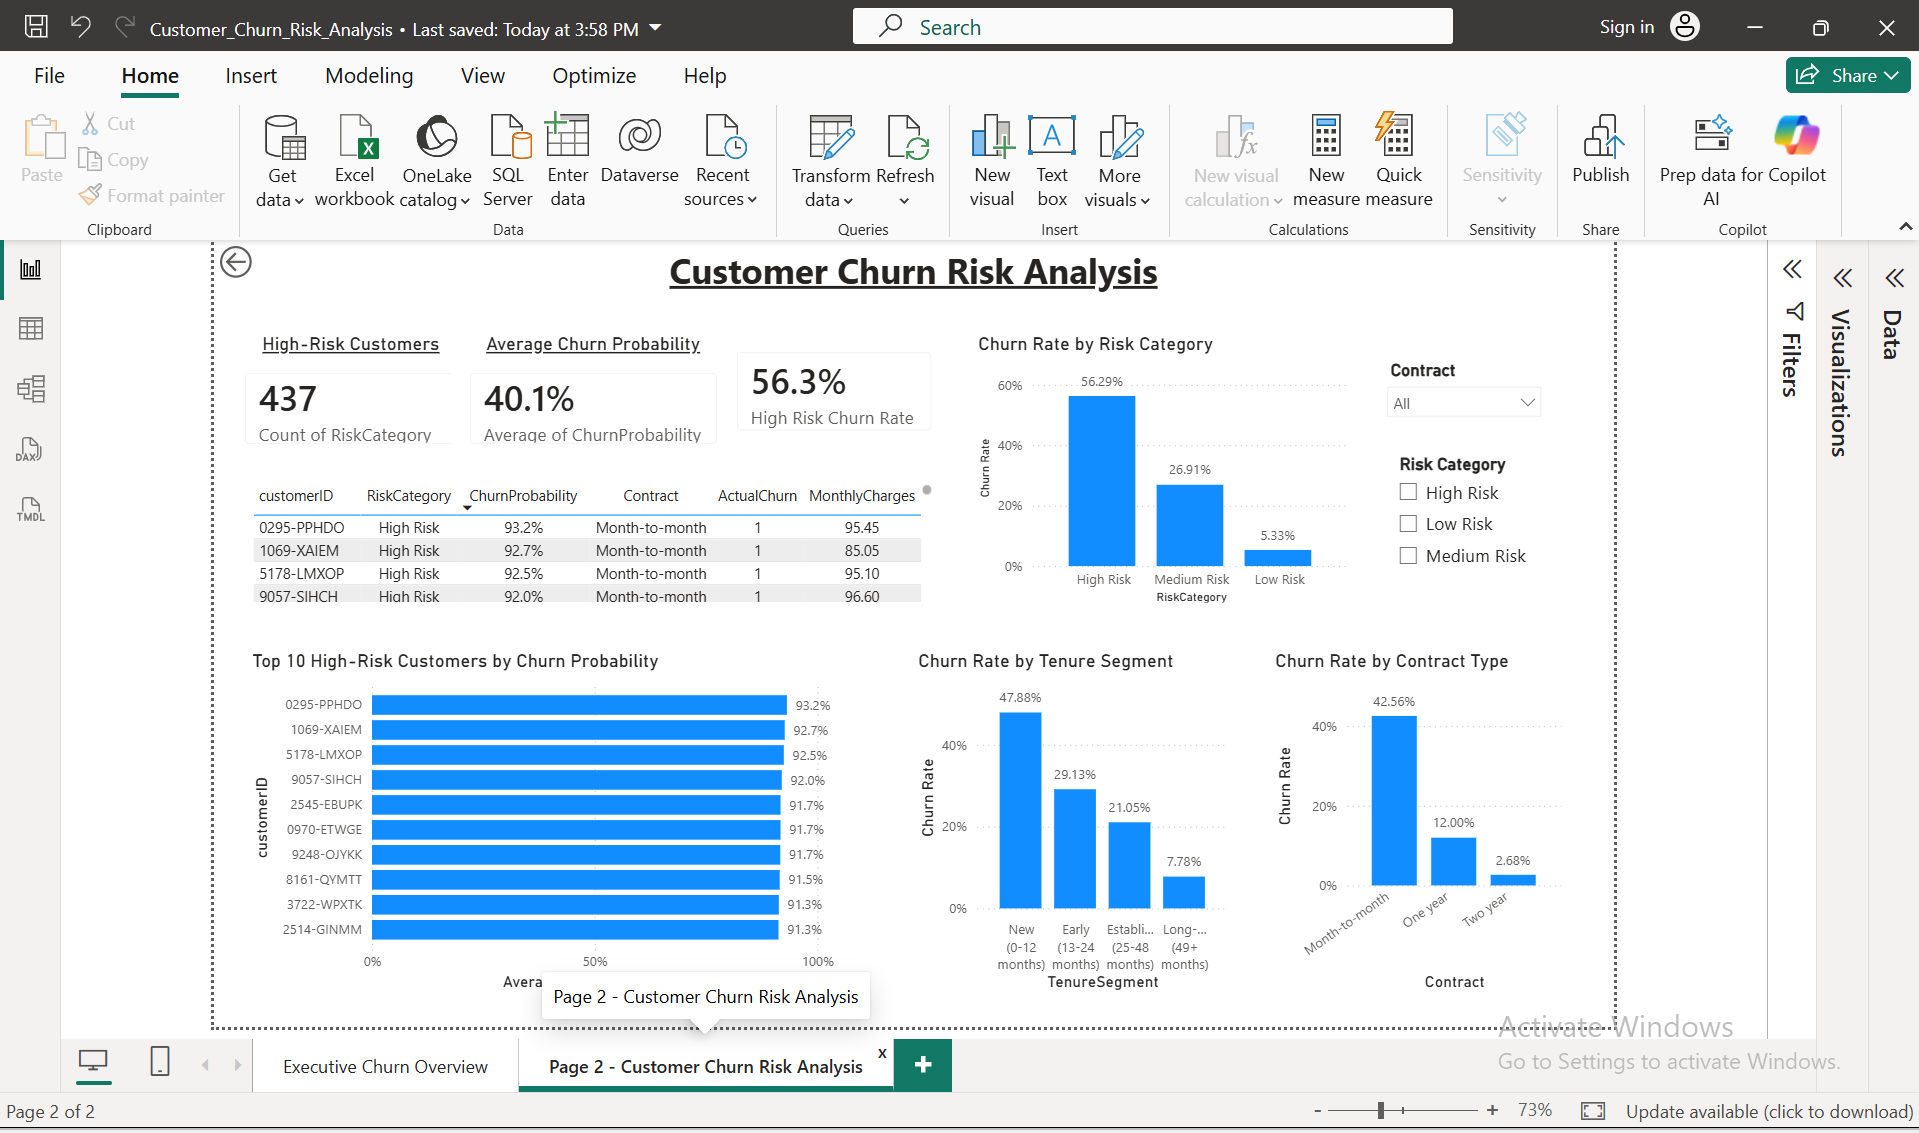

The dashboard page shown, as its layout file describes it:
{"tool":"powerbi","page":{"name":"Page 2 - Customer Churn Risk Analysis","canvas":[1280,720],"ordinal":1},"visuals":[{"type":"textbox","box":[0,0,1280,55.4],"z":0},{"type":"cardVisual","title":"High-Risk Customers","fields":{"Data":["CountNonNull(customer_churn_powerbi.RiskCategory)"]},"box":[11.6,84.5,228.7,119.3],"z":1},{"type":"cardVisual","title":"Average Churn Probability","fields":{"Data":["Avg(customer_churn_powerbi.ChurnProbability)"]},"box":[217.1,84.5,260.2,119.3],"z":2},{"type":"cardVisual","fields":{"Data":["customer_churn_powerbi.High Risk Churn Rate"]},"box":[460.7,84.5,212.1,106.1],"z":3},{"type":"tableEx","fields":{"Values":["customer_churn_powerbi.customerID","customer_churn_powerbi.RiskCategory","customer_churn_powerbi.ChurnProbability","customer_churn_powerbi.Contract","customer_churn_powerbi.ActualChurn","customer_churn_powerbi.MonthlyCharges"]},"box":[29.8,218.8,631.4,117.7],"z":4},{"type":"actionButton","box":[0,0,100,40],"z":5},{"type":"clusteredColumnChart","title":"Churn Rate by Risk Category","fields":{"Category":["customer_churn_powerbi.RiskCategory"],"Y":["customer_churn_powerbi.Churn Rate"]},"box":[694.4,84.5,349.7,251.9],"z":6},{"type":"slicer","fields":{"Values":["customer_churn_powerbi.RiskCategory"]},"box":[1072.3,190.6,145.8,117.7],"z":7},{"type":"clusteredBarChart","title":"Top 10 High-Risk Customers by Churn Probability","fields":{"Category":["customer_churn_powerbi.customerID"],"Y":["Avg(customer_churn_powerbi.ChurnProbability)"]},"box":[29.8,374.6,553.5,316.5],"z":8},{"type":"clusteredColumnChart","title":"Churn Rate by Contract Type","fields":{"Category":["customer_churn_powerbi.Contract"],"Y":["customer_churn_powerbi.Churn Rate"]},"box":[966.2,374.6,271.8,316.5],"z":9},{"type":"clusteredColumnChart","title":"Churn Rate by Tenure Segment","fields":{"Category":["customer_churn_powerbi.TenureSegment"],"Y":["customer_churn_powerbi.Churn Rate"]},"box":[639.7,374.6,293.3,316.5],"z":10},{"type":"slicer","fields":{"Values":["customer_churn_powerbi.Contract"]},"box":[1064,104.4,160.8,68],"z":11}]}

Visuals, with their boxes on the page's 1280x720 design canvas (x1, y1, x2, y2). These are canvas units, not pixel positions in the 1919x1133 screenshot, which may show the page scaled, cropped or inside an application window:
textbox: <region>0, 0, 1280, 55</region>
"High-Risk Customers" cardVisual: <region>12, 84, 240, 204</region>
"Average Churn Probability" cardVisual: <region>217, 84, 477, 204</region>
cardVisual - customer_churn_powerbi.High Risk Churn Rate: <region>461, 84, 673, 191</region>
tableEx - customer_churn_powerbi.customerID x customer_churn_powerbi.RiskCategory: <region>30, 219, 661, 336</region>
actionButton: <region>0, 0, 100, 40</region>
"Churn Rate by Risk Category" clusteredColumnChart: <region>694, 84, 1044, 336</region>
slicer - customer_churn_powerbi.RiskCategory: <region>1072, 191, 1218, 308</region>
"Top 10 High-Risk Customers by Churn Probability" clusteredBarChart: <region>30, 375, 583, 691</region>
"Churn Rate by Contract Type" clusteredColumnChart: <region>966, 375, 1238, 691</region>
"Churn Rate by Tenure Segment" clusteredColumnChart: <region>640, 375, 933, 691</region>
slicer - customer_churn_powerbi.Contract: <region>1064, 104, 1225, 172</region>
